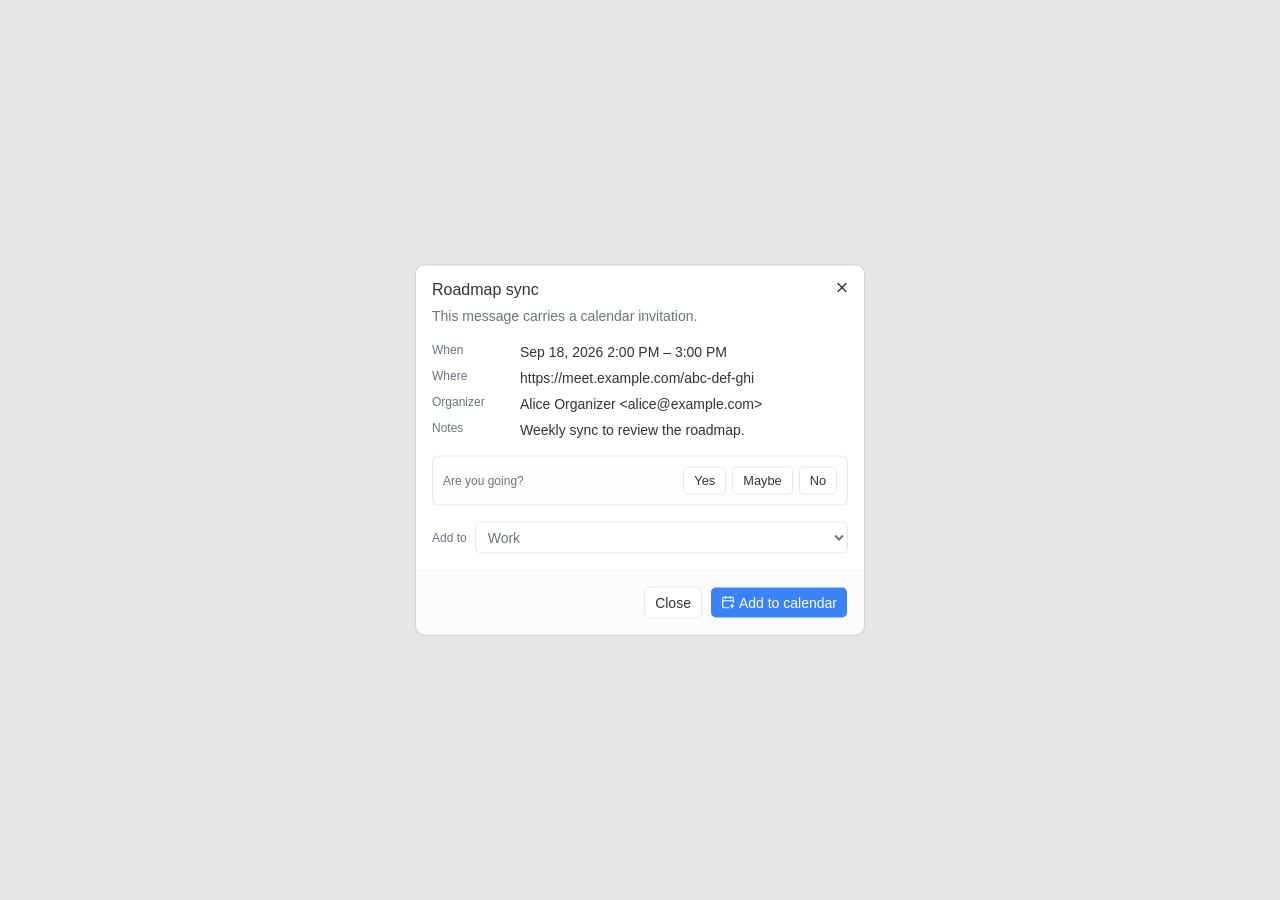
Test: IcsPreviewDialog parsed details › offers the Add-to-calendar action through the seam with the chosen source
Click the button with test id "ics-add". click: [779, 602]
box: [710,586,848,618]
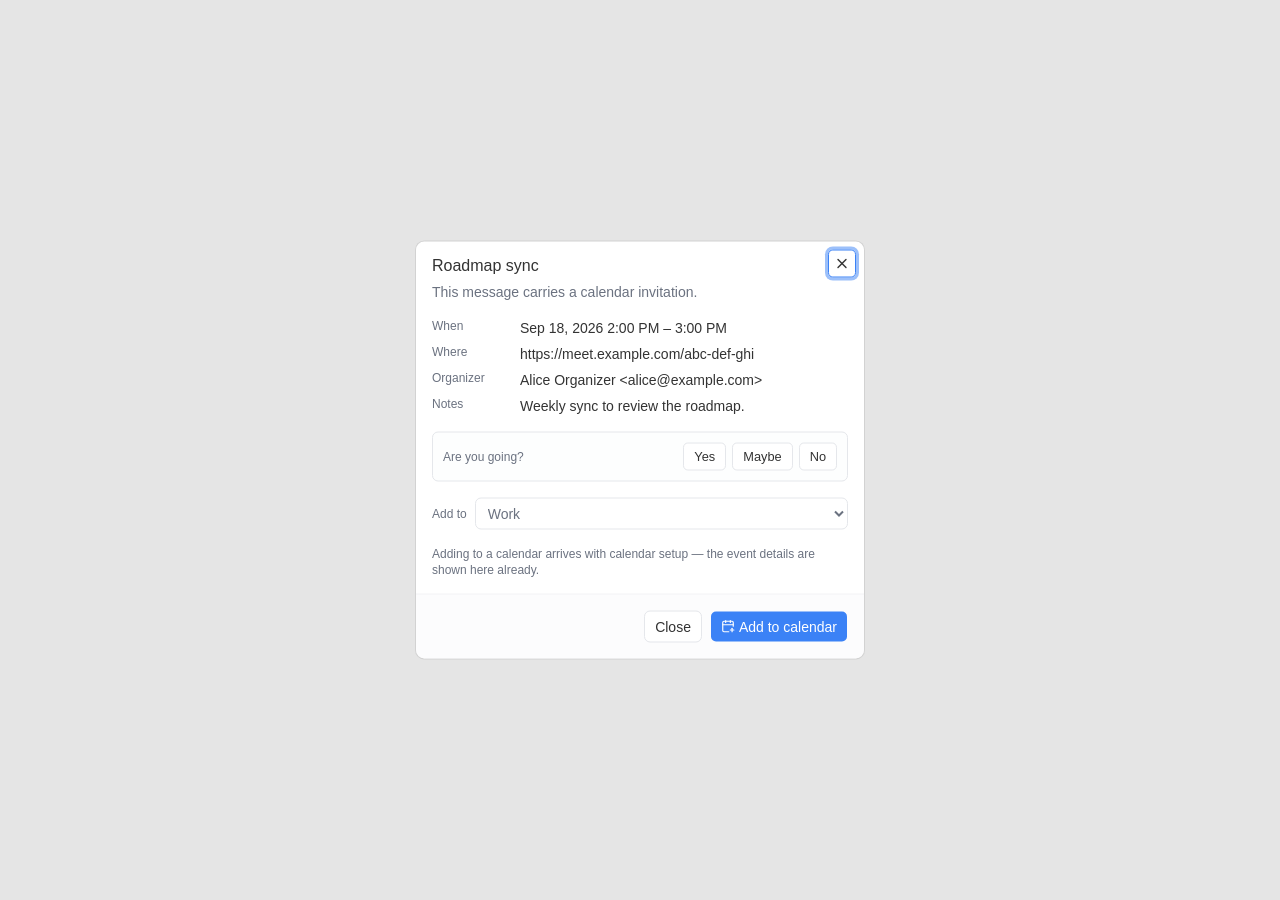
Result: the message with test id "ics-add-status" is shown at [432,546,848,578]
Result: the message with test id "ics-add-status" shows "arrives with calendar setup" at [432,546,815,576]
